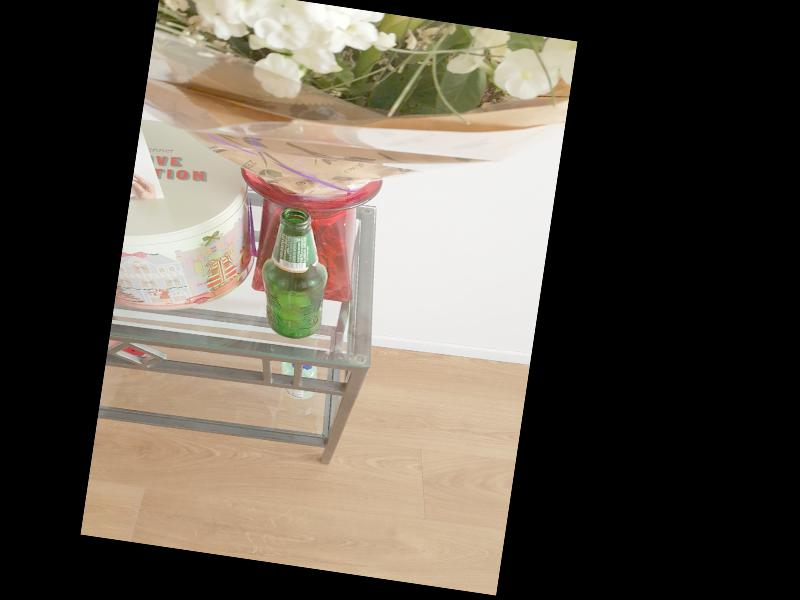Beer: (252, 205, 337, 343)
